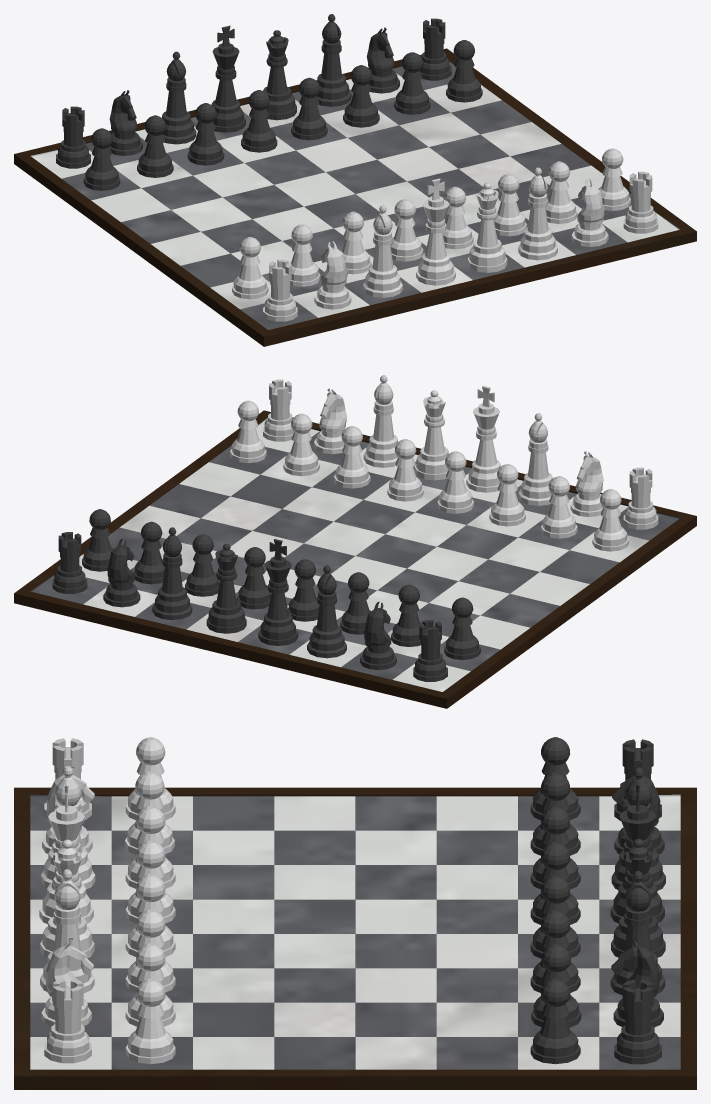
Rendered from chess-board.gltf.
3 renders of one model, top to bottom at view 1: azimuth 30°, elevation 25°; view 2: azimuth 150°, elevation 25°; view 3: azimuth 270°, elevation 25°, orthographic. The views are drawn at different scales.
Visible parts, largest first — view 1: Chess/Draughts Board, LightKing, DarkKing, LightQueen, LightBishop2, LightBishop1, DarkBishop1, DarkBishop2, DarkQueen, LightKnight2, LightKnight1, LightRook2 (+21 smaller); view 2: Chess/Draughts Board, DarkKing, LightKing, DarkQueen, DarkBishop2, DarkBishop1, LightQueen, LightBishop2, LightBishop1, DarkKnight1, DarkKnight2, LightRook1 (+21 smaller); view 3: Chess/Draughts Board, LightRook2, DarkRook1, LightPawn8, DarkPawn1, LightBishop2, DarkBishop1, DarkKing, LightKing, DarkQueen, DarkKnight1, LightKnight2 (+21 smaller).
Part boxes in pixels (bbox=[...]): Chess/Draughts Board: bbox=[14, 48, 696, 346]; LightKing: bbox=[416, 178, 455, 285]; DarkKing: bbox=[211, 25, 245, 132]; LightQueen: bbox=[467, 183, 507, 272]; LightBishop2: bbox=[518, 167, 557, 260]; LightBishop1: bbox=[363, 205, 402, 297]; DarkBishop1: bbox=[317, 14, 351, 106]; DarkBishop2: bbox=[162, 51, 196, 144]; DarkQueen: bbox=[263, 30, 296, 120]; LightKnight2: bbox=[571, 178, 608, 246]; LightKnight1: bbox=[314, 241, 351, 309]; LightRook2: bbox=[623, 171, 658, 233]; Chess/Draughts Board: bbox=[14, 410, 696, 708]; DarkKing: bbox=[258, 539, 298, 645]; LightKing: bbox=[466, 385, 500, 492]; DarkQueen: bbox=[206, 543, 246, 633]; DarkBishop2: bbox=[307, 565, 346, 658]; DarkBishop1: bbox=[152, 527, 192, 620]; LightQueen: bbox=[414, 390, 448, 480]; LightBishop2: bbox=[363, 375, 397, 467]; LightBishop1: bbox=[518, 413, 552, 505]; DarkKnight1: bbox=[103, 539, 140, 607]; DarkKnight2: bbox=[360, 601, 396, 670]; LightRook1: bbox=[623, 467, 658, 529]; Chess/Draughts Board: bbox=[14, 787, 696, 1089]; LightRook2: bbox=[44, 978, 91, 1063]; DarkRook1: bbox=[614, 980, 661, 1064]; LightPawn8: bbox=[125, 978, 175, 1064]; DarkPawn1: bbox=[530, 978, 580, 1064]; LightBishop2: bbox=[40, 869, 94, 993]; DarkBishop1: bbox=[610, 871, 665, 995]; DarkKing: bbox=[610, 780, 664, 923]; LightKing: bbox=[39, 780, 93, 924]; DarkQueen: bbox=[611, 838, 665, 957]; DarkKnight1: bbox=[611, 938, 663, 1027]; LightKnight2: bbox=[41, 937, 93, 1026].
Size of the model in its own units: 0.5685 by 0.1337 by 0.5685.
Materials: 5 (5 with a texture image).
